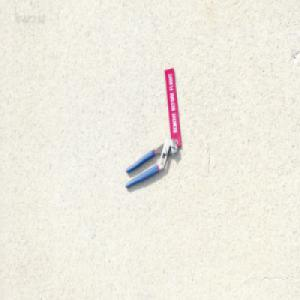Label: (163, 66, 181, 148)
Pliers: (124, 137, 178, 190)
